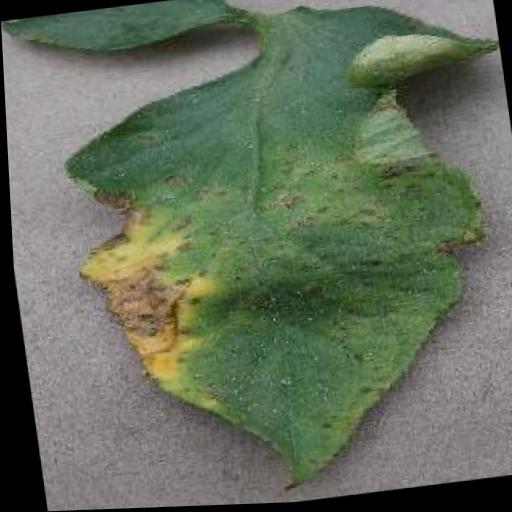Bacterial Spot: (44, 0, 512, 511)
